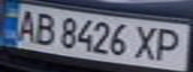2: (90, 19, 112, 56)
4: (75, 17, 96, 53)
6: (109, 20, 133, 58)
8: (54, 15, 78, 49)
A: (9, 7, 42, 43)
B: (30, 10, 60, 46)
P: (151, 25, 187, 63)
X: (130, 23, 163, 62)
